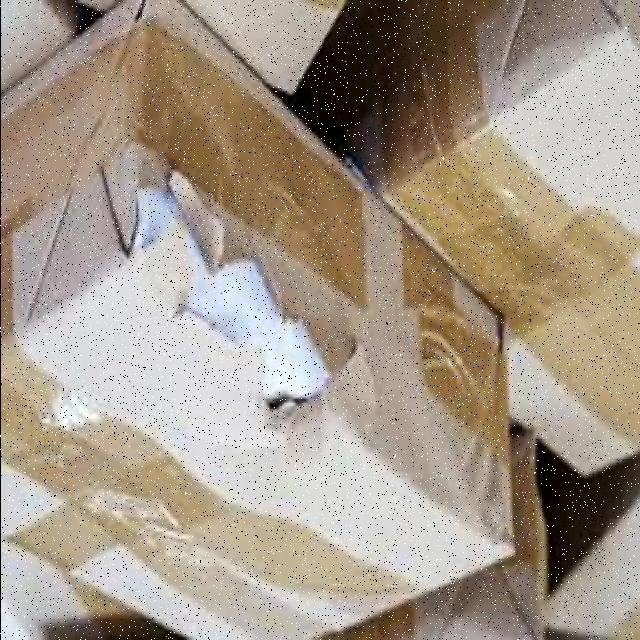defect: (1, 0, 513, 636)
